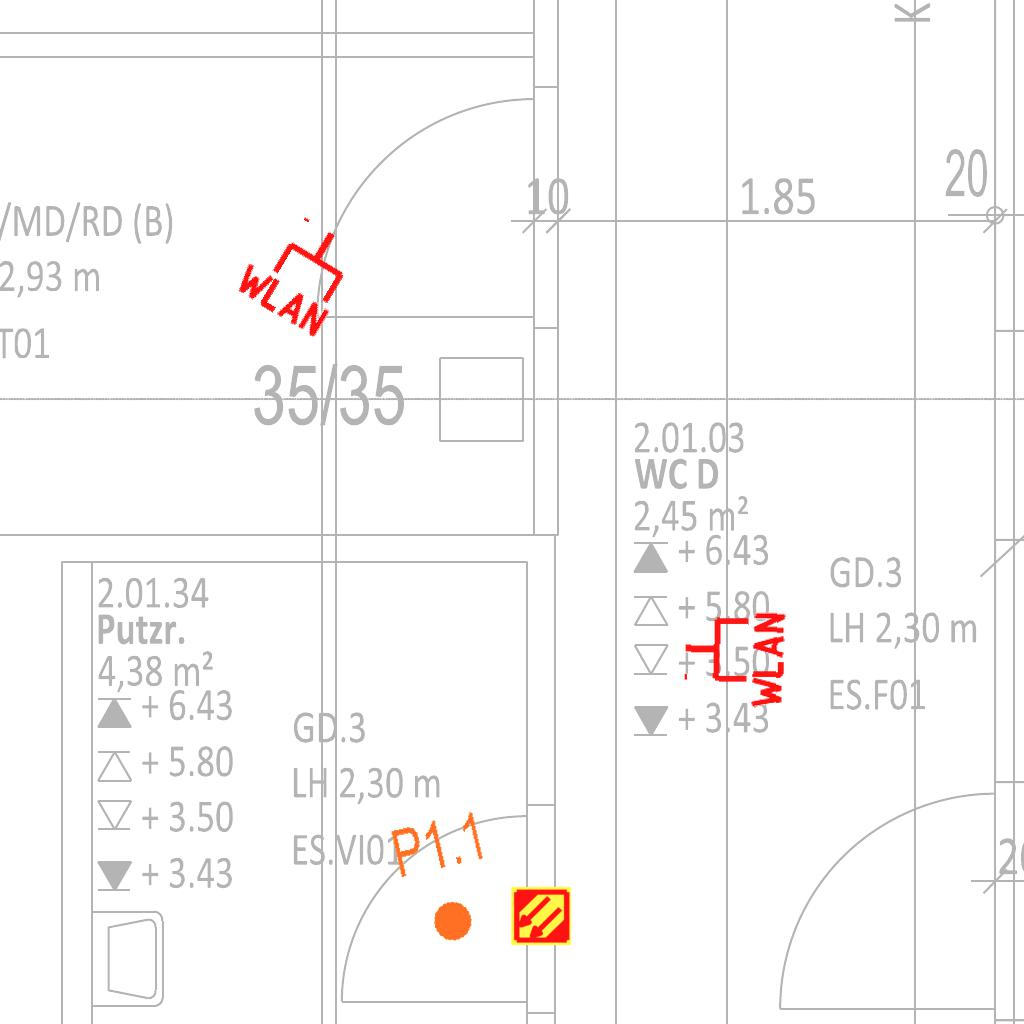ASR_Ansaugrauchmelder: (510, 885, 572, 947)
Downlight_LED_Einbauleuchten_Flur: (386, 807, 507, 953)
WLAN: (227, 198, 372, 342), (679, 605, 788, 713)
